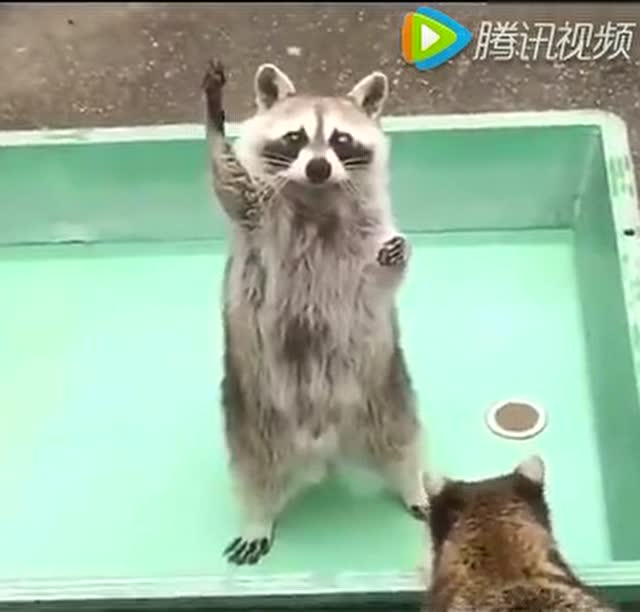raccoon: (182, 52, 453, 567), (419, 460, 623, 612)
